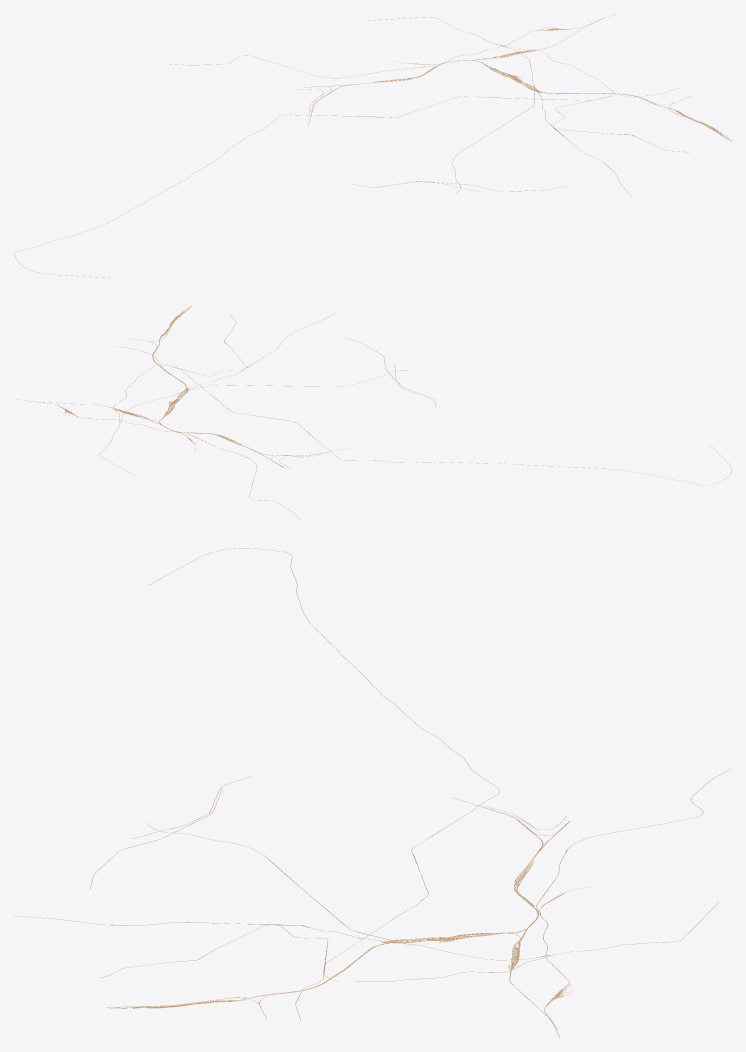
The model's file is rail.glb.
The picture shows the model from 3 angles, top to bottom: view 1: azimuth 30°, elevation 25°; view 2: azimuth 150°, elevation 25°; view 3: azimuth 270°, elevation 25°; orthographic projection. The views are drawn at different scales.
Visible parts, largest first — view 1: rail; view 2: rail; view 3: rail.
Boxes of the visible parts, bbox=[...] form: rail: bbox=[14, 14, 731, 277]; rail: bbox=[14, 306, 731, 519]; rail: bbox=[14, 548, 731, 1037].
Bounding box in the file's own units: 24249 × 50.32 × 15048.
